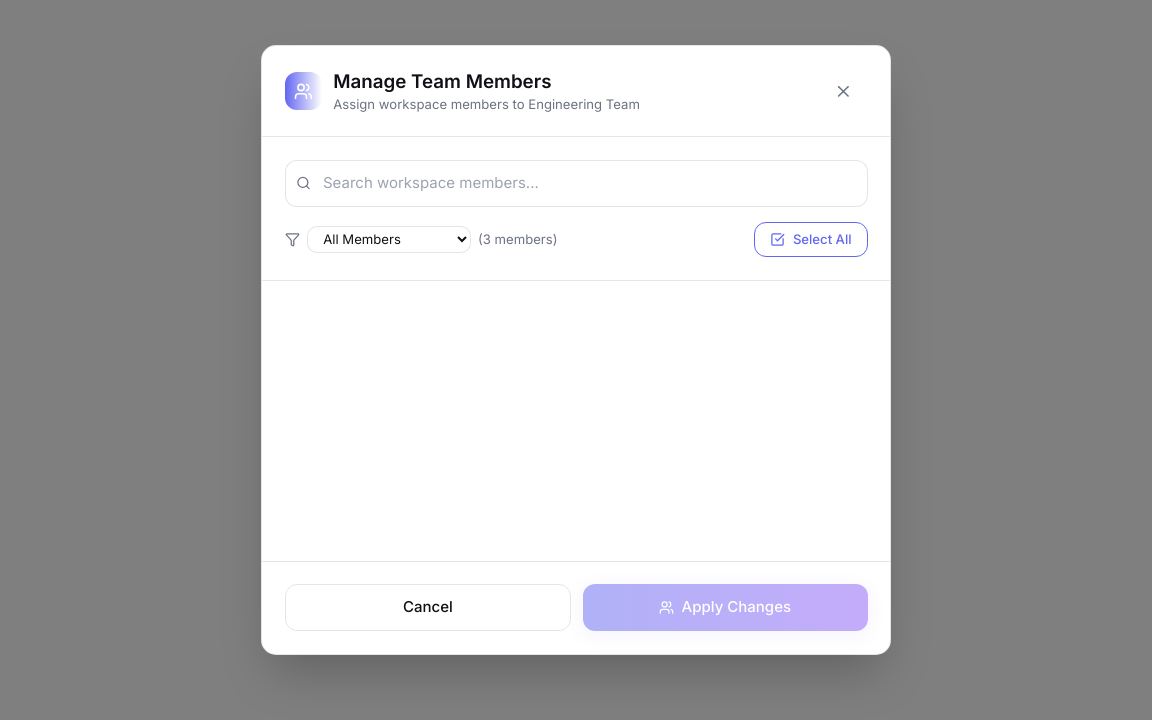
Test case: TeamMemberAssignmentModal › filters members by search query
Type "Jane" into the field with placeholder "Search workspace members..." at (576, 183), box [284, 160, 868, 206]
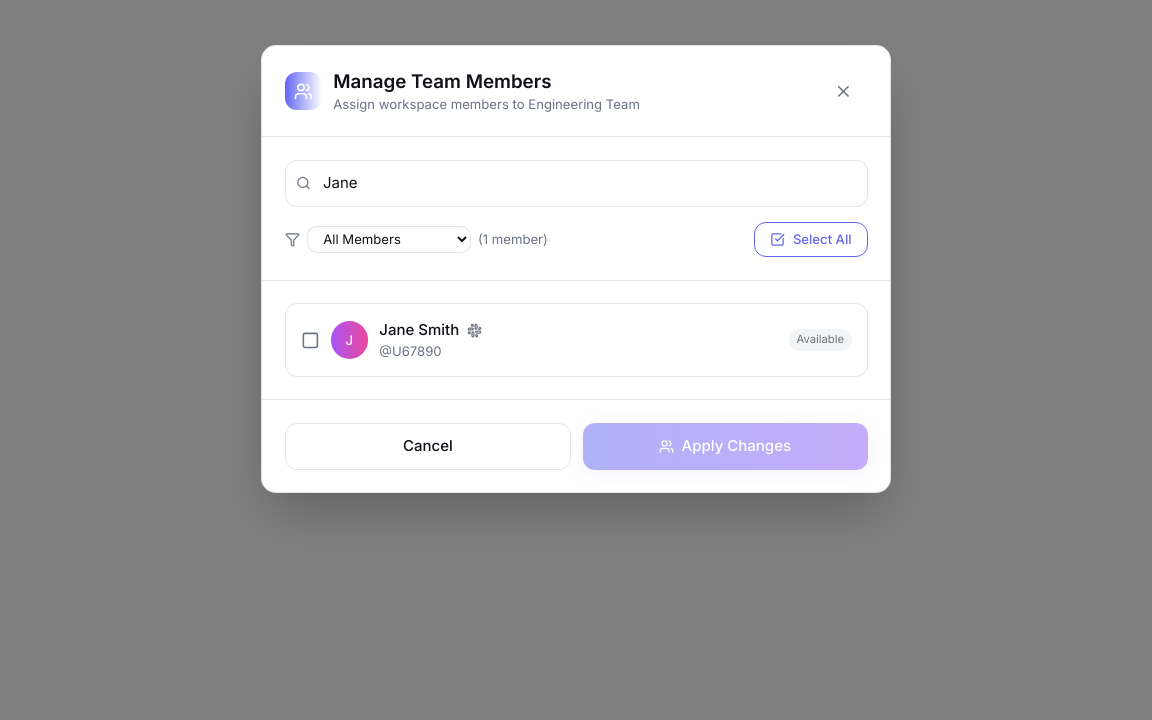
Result: the text "Jane Smith" is shown at [379, 319, 459, 342]
